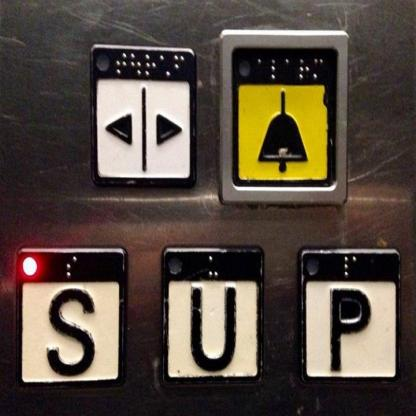P: (298, 246, 401, 382)
S: (16, 244, 126, 386)
U: (159, 244, 263, 388)
alarm: (217, 28, 347, 204)
open: (88, 41, 197, 188)
